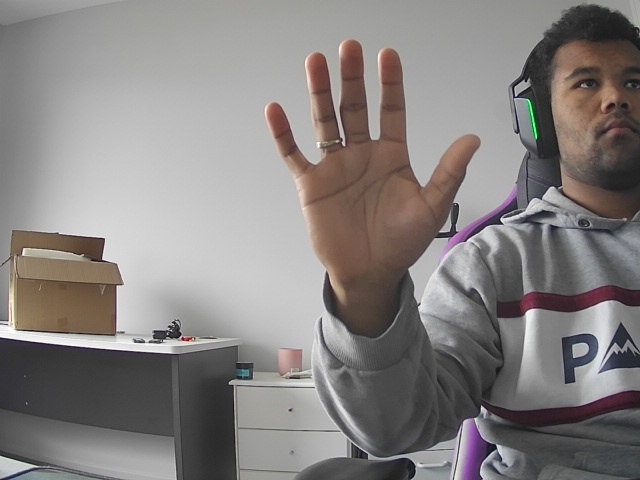Hello: (206, 24, 505, 285)
